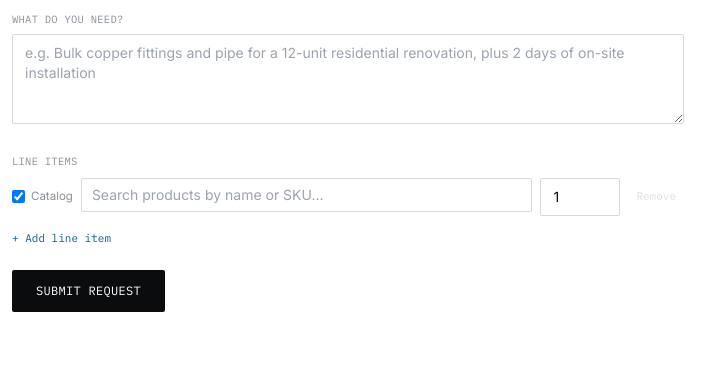
Scenario: QuoteRequestForm › shows the server-returned error and does not navigate when the action fails
This screenshot has width=701, height=365.
In the text box with placeholder "Bulk copper fittings": (348,79) [12,34,684,124], type "A genuinely long enough description"
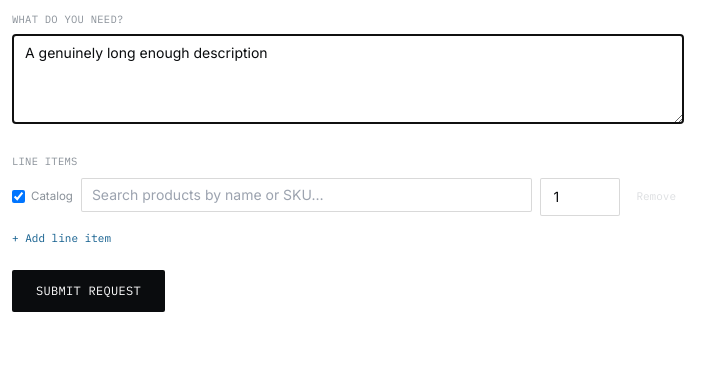
Click the checkbox: (18,196) [12,190,25,203]
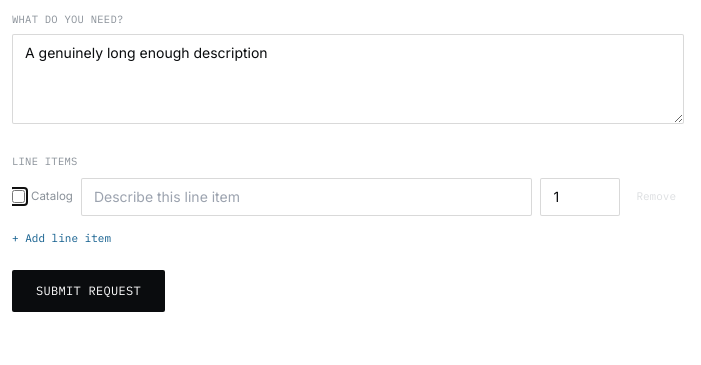
In the field with placeholder "Describe this line item": (307,196) [81,178,532,216], type "Custom fabrication work"
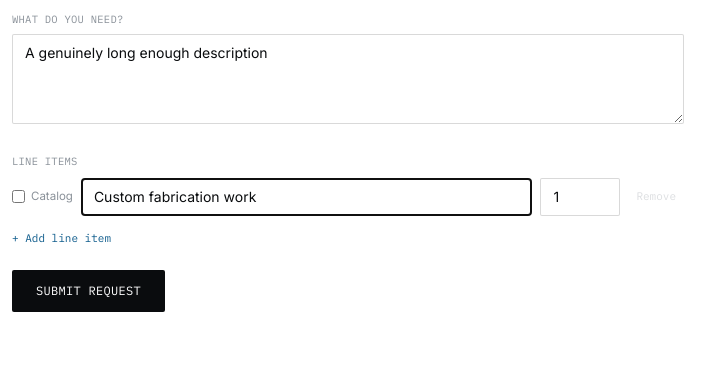
Click the button "Submit Request": (88,291) [12,270,165,312]
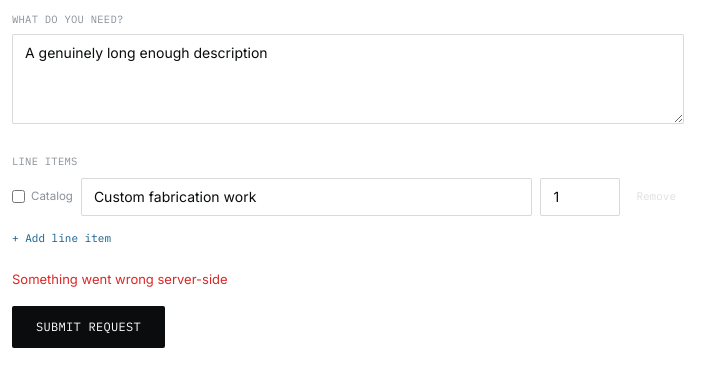
Expected: the text "Something went wrong server-side" is shown, [12,271,228,287]
